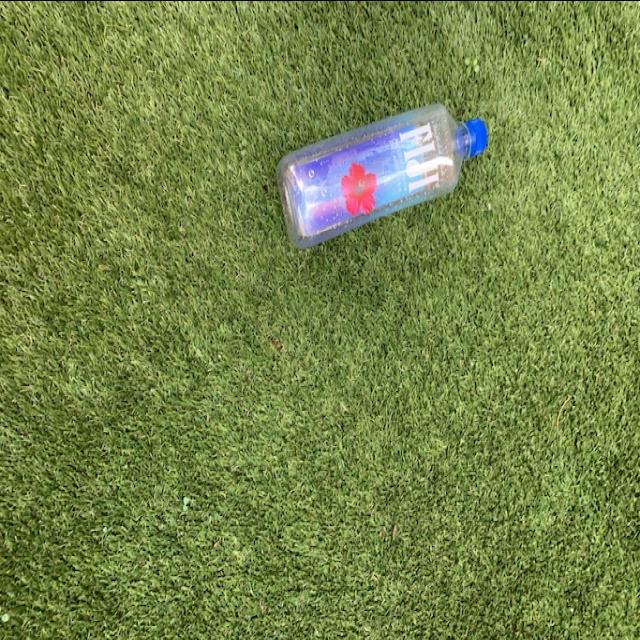litter: (274, 94, 482, 256)
